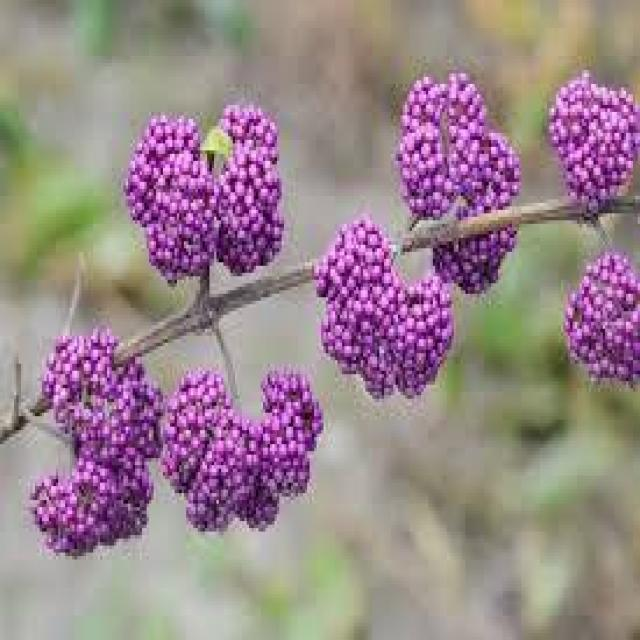organic waste: (32, 320, 163, 554), (122, 103, 288, 285), (162, 358, 324, 544), (397, 78, 520, 310), (307, 219, 452, 404), (547, 73, 638, 203), (560, 254, 636, 383)
